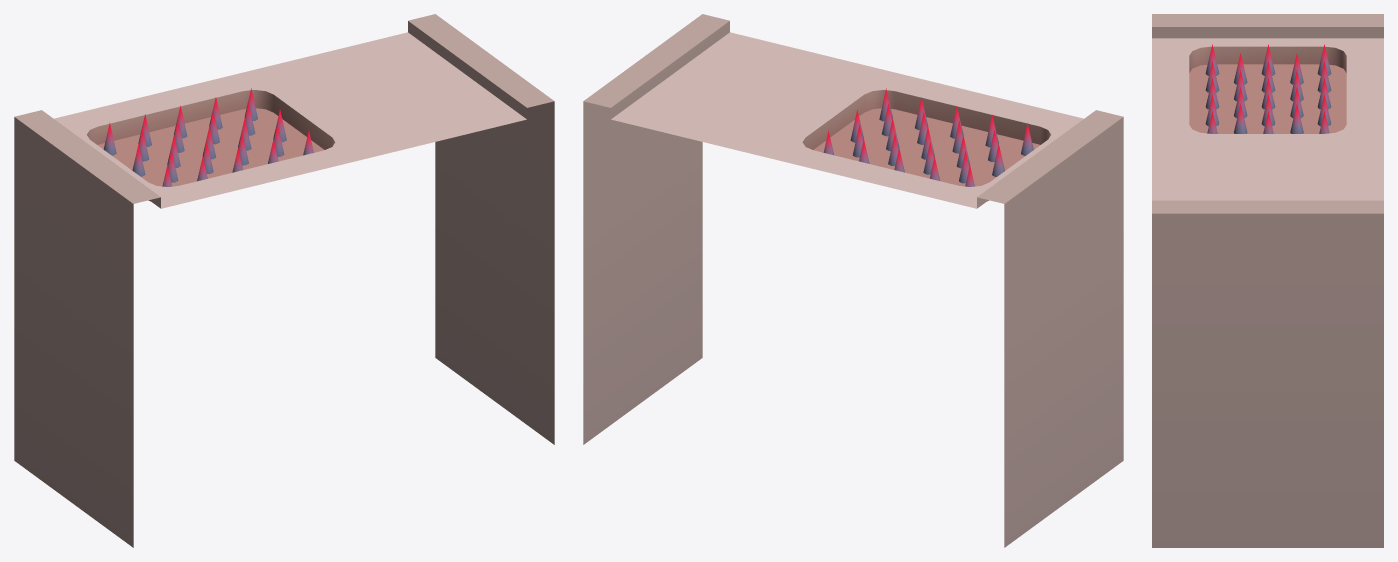
Rendered from Road_Trap.fbx.
3 views of the same model, side by side, from view 1: azimuth 30°, elevation 25°; view 2: azimuth 150°, elevation 25°; view 3: azimuth 270°, elevation 25° (orthographic). The views are drawn at different scales.
Visible parts, largest first — view 1: Road_Trap; view 2: Road_Trap; view 3: Road_Trap.
Part boxes in pixels (bbox=[...]): Road_Trap: bbox=[14, 14, 554, 547]; Road_Trap: bbox=[583, 14, 1123, 547]; Road_Trap: bbox=[1152, 14, 1383, 547].
Size of the model in its own units: 385 by 301 by 189.
